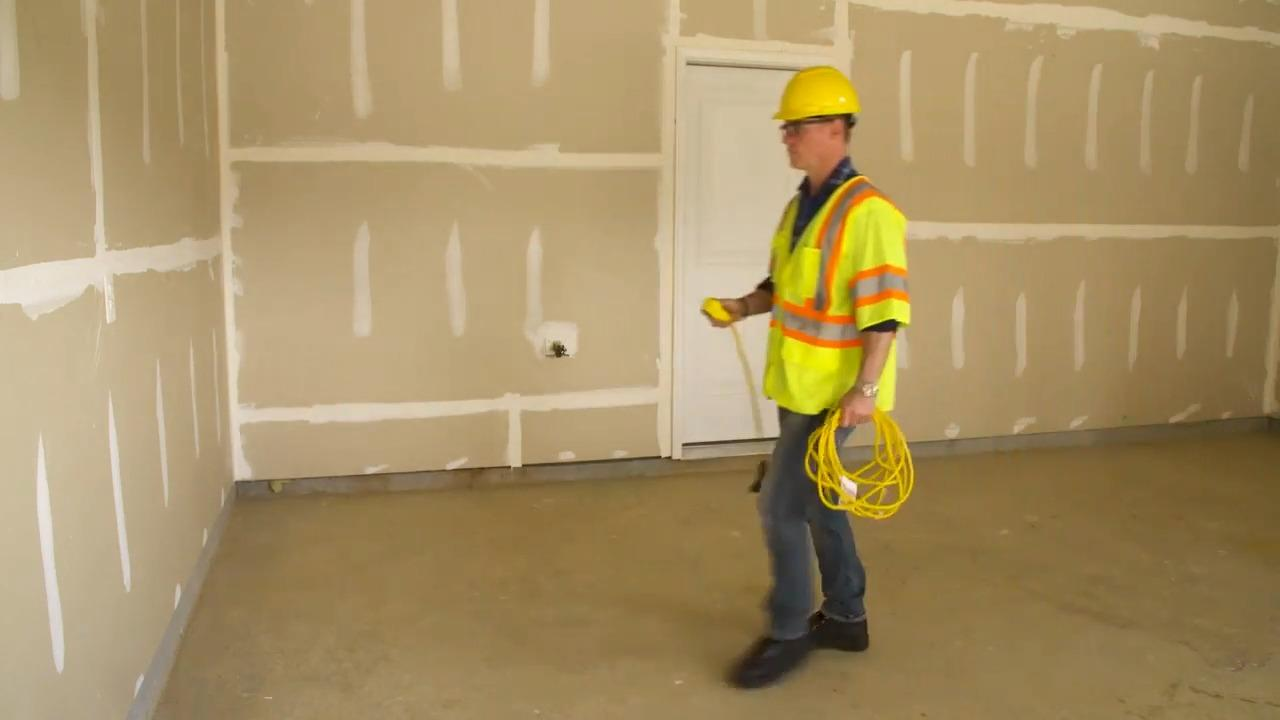Helmet: (770, 64, 861, 123)
Person: (703, 58, 914, 682)
Safety Boot: (734, 630, 811, 687), (808, 608, 871, 652)
Safety Vest: (782, 206, 907, 423)
bare-arms: (833, 380, 890, 427), (694, 294, 756, 335)
